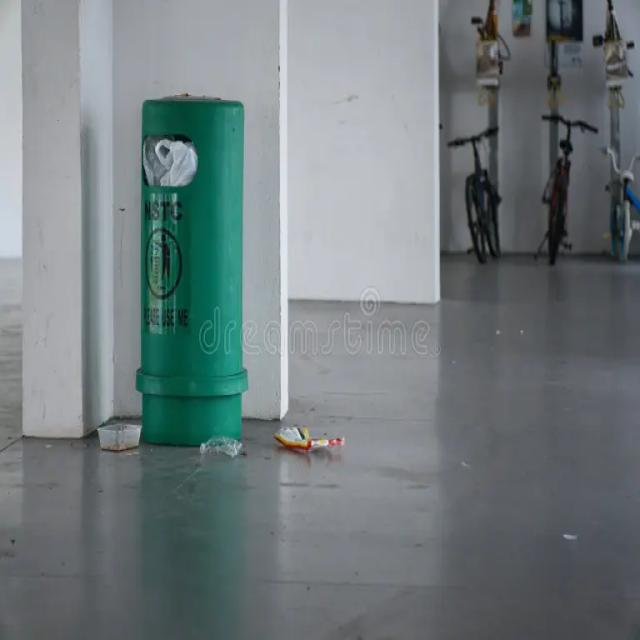bin_full: (138, 96, 250, 443)
normal_waste: (141, 134, 192, 187), (96, 419, 147, 459), (277, 427, 345, 446)
